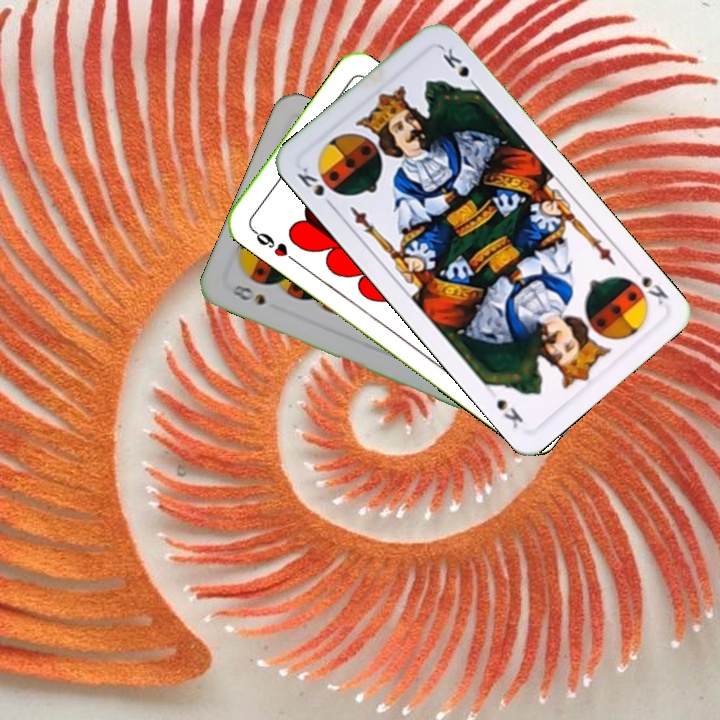H9: (247, 224, 298, 264)
S8: (226, 280, 268, 308)
SK: (293, 163, 338, 212), (626, 260, 671, 307)
